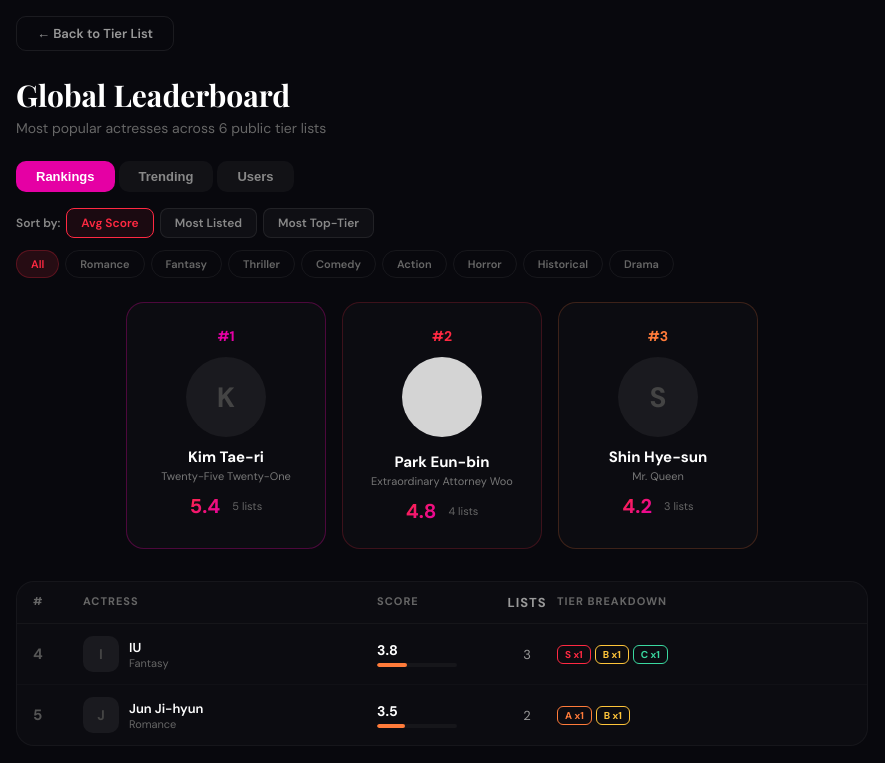
Test case: Leaderboard › shows empty state for trending when no entries
Expected: the text "Kim Tae-ri" is shown, [188,447,264,467]
What coordinates should you click on to do the following:
click the button "Trending"
I would click on:
 (166, 176)
Its box is [118,161,213,192].
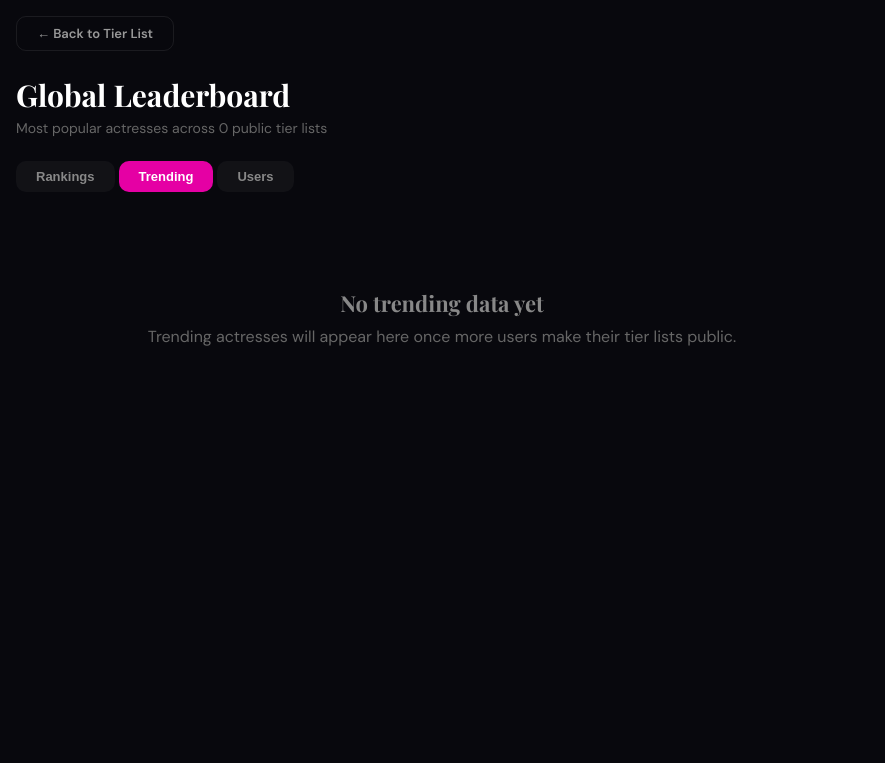
Expected: the heading "No trending data yet" is shown, [340,288,544,318]
